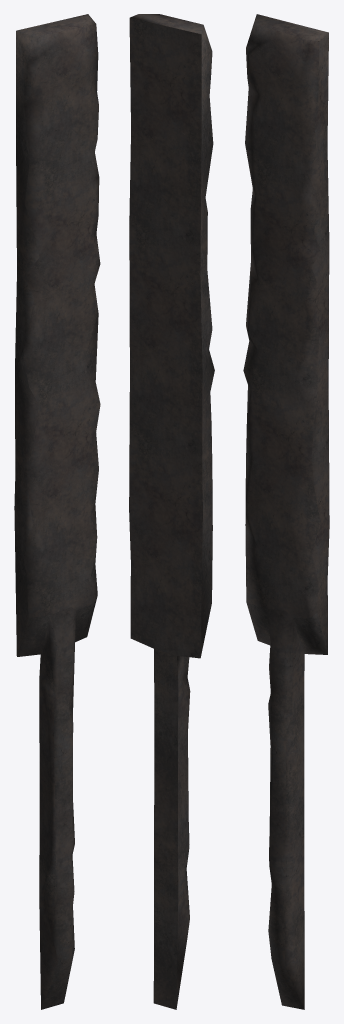
The model's file is SM_ColumnButtress.fbx.
3 renders of one model, left to right at view 1: azimuth 30°, elevation 25°; view 2: azimuth 150°, elevation 25°; view 3: azimuth 330°, elevation 25°, orthographic.
Visible parts, largest first — view 1: SM_ColumnButtress_LOD0; view 2: SM_ColumnButtress_LOD0; view 3: SM_ColumnButtress_LOD0.
Part boxes in pixels (<box>): SM_ColumnButtress_LOD0: <box>14,14,100,1009</box>; SM_ColumnButtress_LOD0: <box>129,14,214,1009</box>; SM_ColumnButtress_LOD0: <box>243,14,329,1009</box>.
Bounding box in the file's own units: 73.94 × 24.21 × 938.
Materials: 1 (1 with a texture image).
